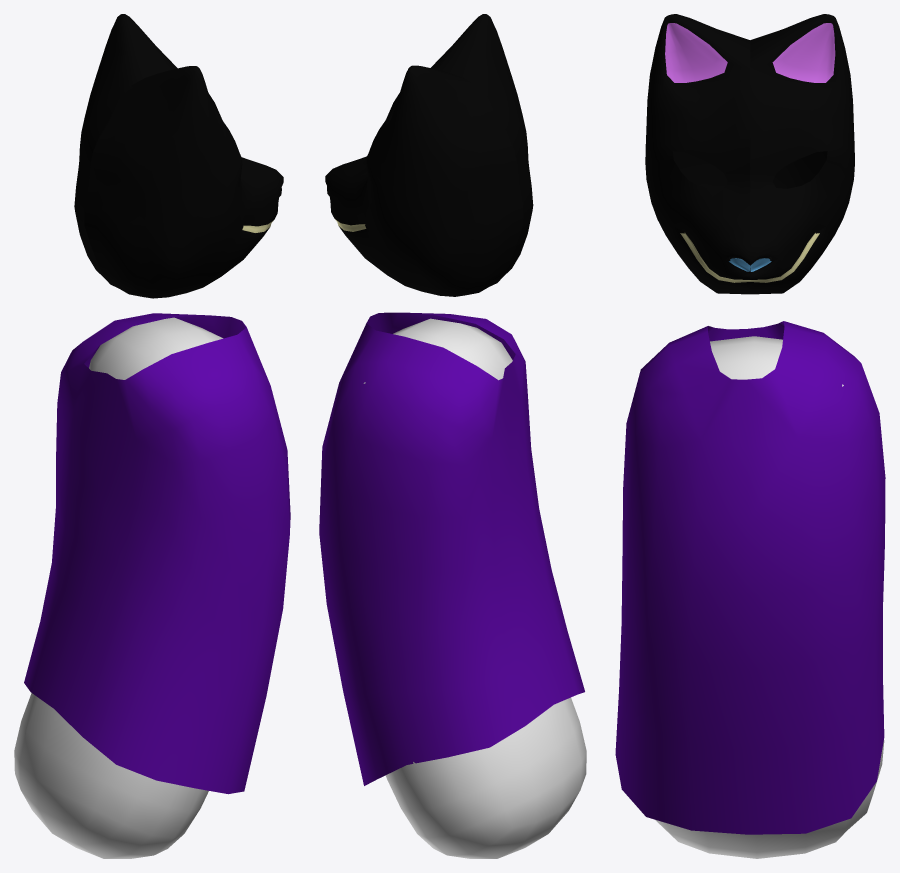
Rendered from NPC 18.fbx.
3 renders of one model, left to right at view 1: azimuth 30°, elevation 25°; view 2: azimuth 150°, elevation 25°; view 3: azimuth 270°, elevation 25°, orthographic. The views are drawn at different scales.
Visible parts, largest first — view 1: T-shirt.019, Mask.018, body.019; view 2: T-shirt.019, Mask.018, body.019; view 3: T-shirt.019, Mask.018, body.019.
Part boxes in pixels (x1,y1,x2,y2): T-shirt.019: (24, 313, 290, 794); Mask.018: (74, 14, 283, 298); body.019: (14, 317, 223, 858); T-shirt.019: (319, 312, 584, 785); Mask.018: (325, 14, 533, 296); body.019: (363, 318, 586, 858); T-shirt.019: (615, 321, 885, 834); Mask.018: (645, 14, 854, 294); body.019: (655, 336, 884, 858).
Size of the model in its own units: 2.38 by 7.48 by 2.12.
